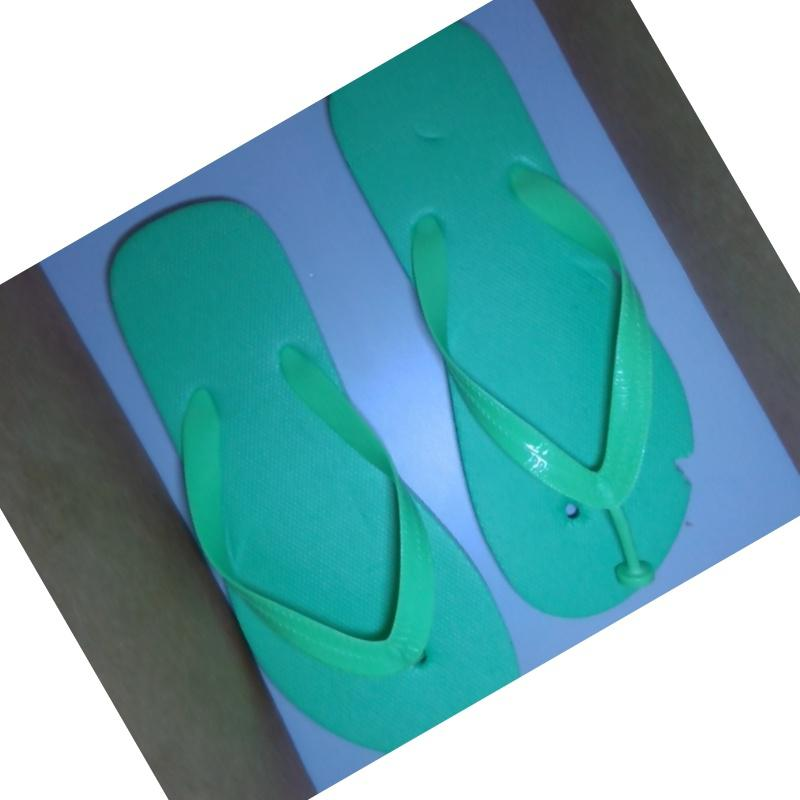chipped: (663, 442, 715, 503)
detached: (604, 543, 661, 596)
